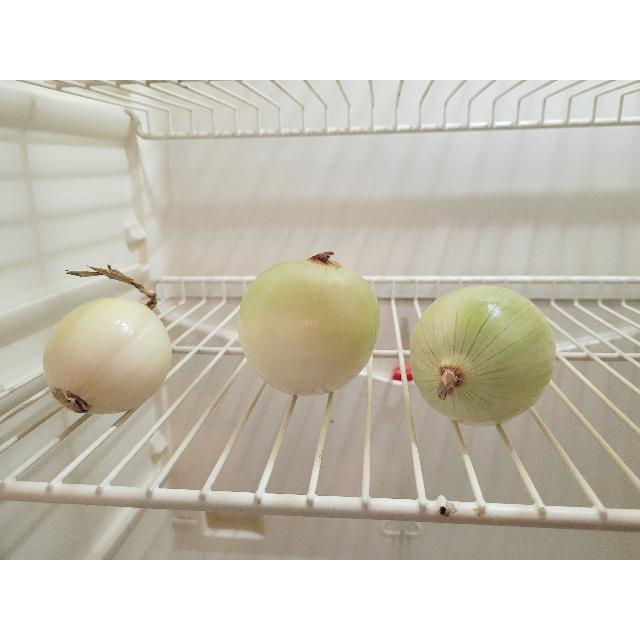onion: (410, 284, 558, 426), (238, 252, 376, 394), (44, 296, 174, 414)
